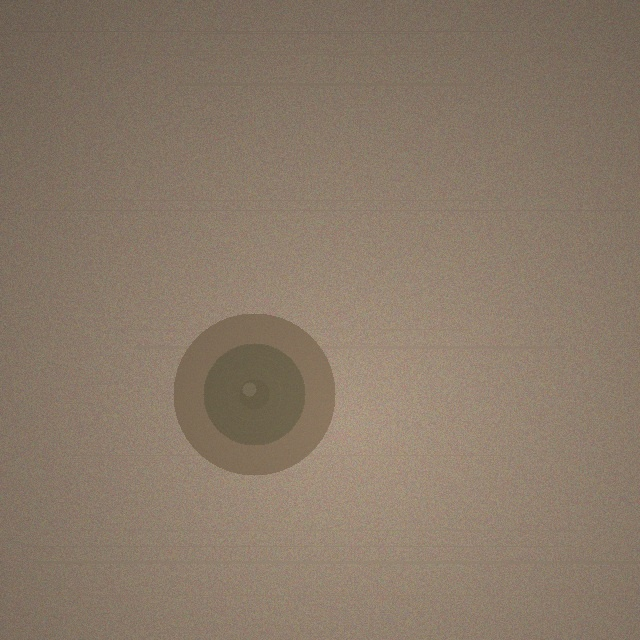good: (173, 313, 335, 475)
